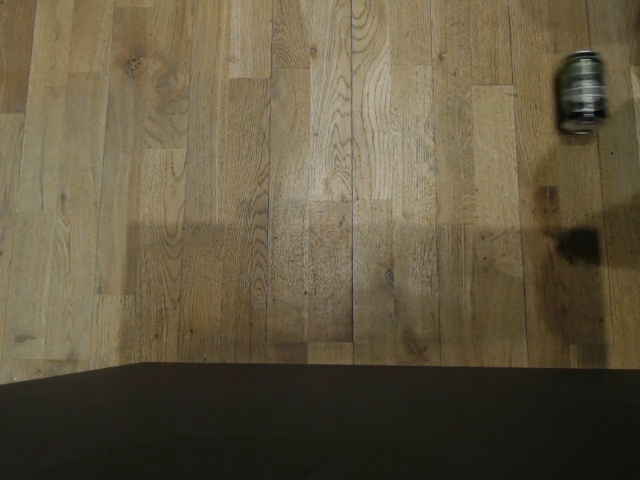beer: (551, 48, 612, 141)
